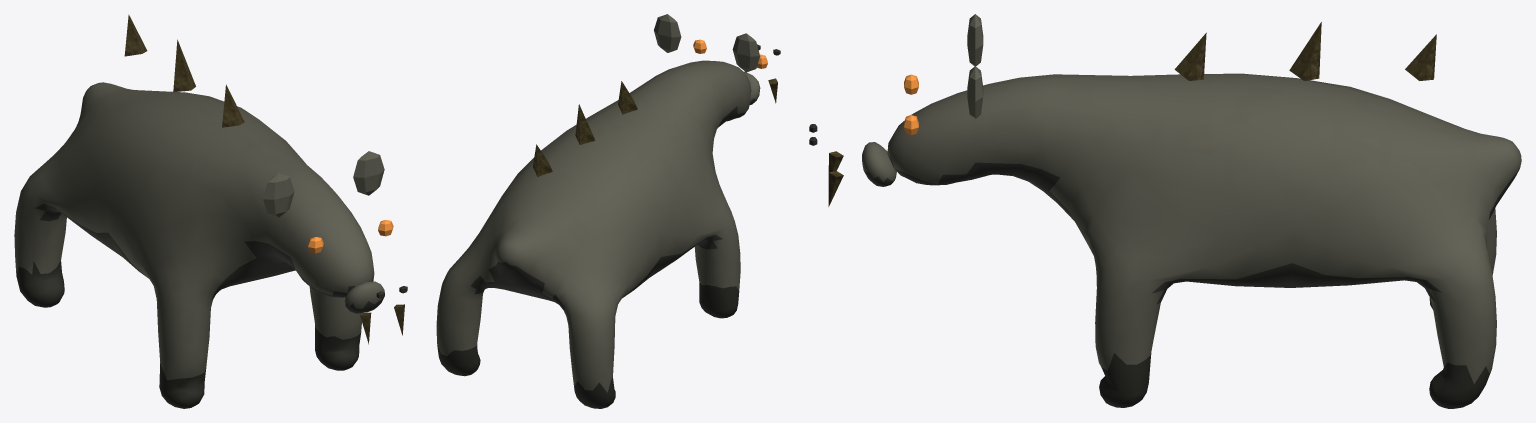
The model's file is pet_pt_bulgasari.glb.
3 renders of one model, left to right at view 1: azimuth 30°, elevation 25°; view 2: azimuth 150°, elevation 25°; view 3: azimuth 270°, elevation 25°, orthographic. The views are drawn at different scales.
Parts seen in each view (by area): view 1: pet_pt_bulgasari; view 2: pet_pt_bulgasari; view 3: pet_pt_bulgasari.
Part boxes in pixels (<box>): pet_pt_bulgasari: <box>14,14,407,408</box>; pet_pt_bulgasari: <box>436,14,780,408</box>; pet_pt_bulgasari: <box>809,14,1521,408</box>.
Bounding box in the file's own units: 0.5757 × 0.8082 × 1.53.
5 materials, 5 textured.
